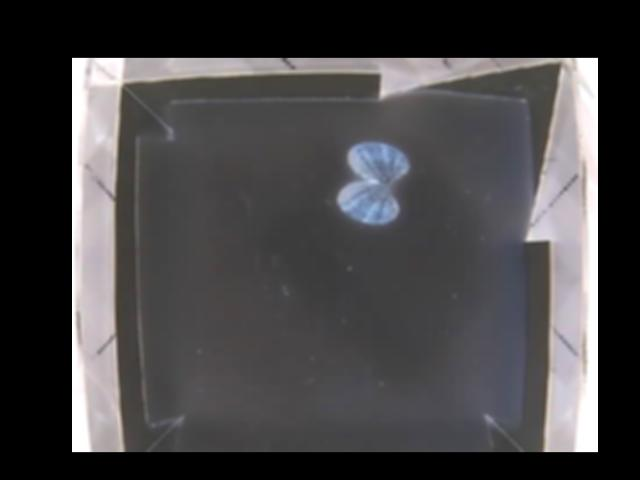Shell: (337, 142, 407, 224)
